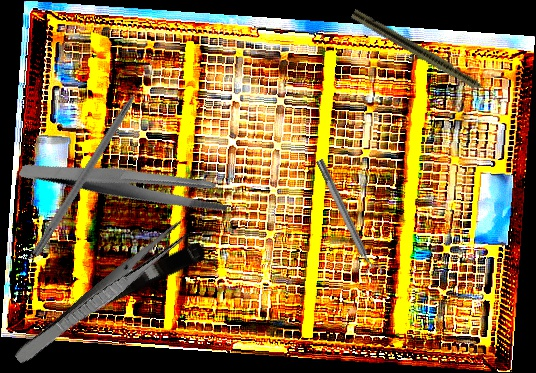Dressing Forceps: (18, 111, 234, 256), (11, 218, 193, 370)
Fixation Ring: (310, 155, 385, 282)
Handpiece: (349, 8, 507, 107)
Hook Surgical: (30, 67, 156, 258)
Micro Scissor: (29, 236, 209, 340)
